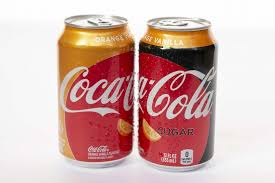coke-can-orange: (54, 16, 136, 168), (138, 20, 219, 171)
